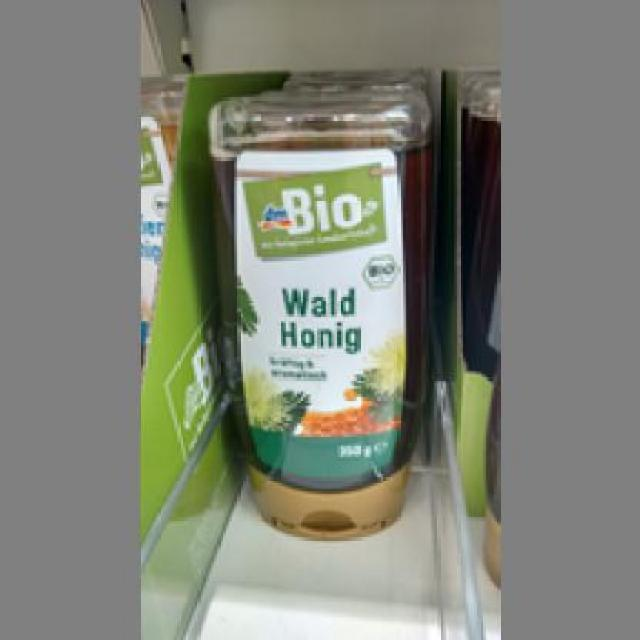Honey: (183, 82, 443, 538)
